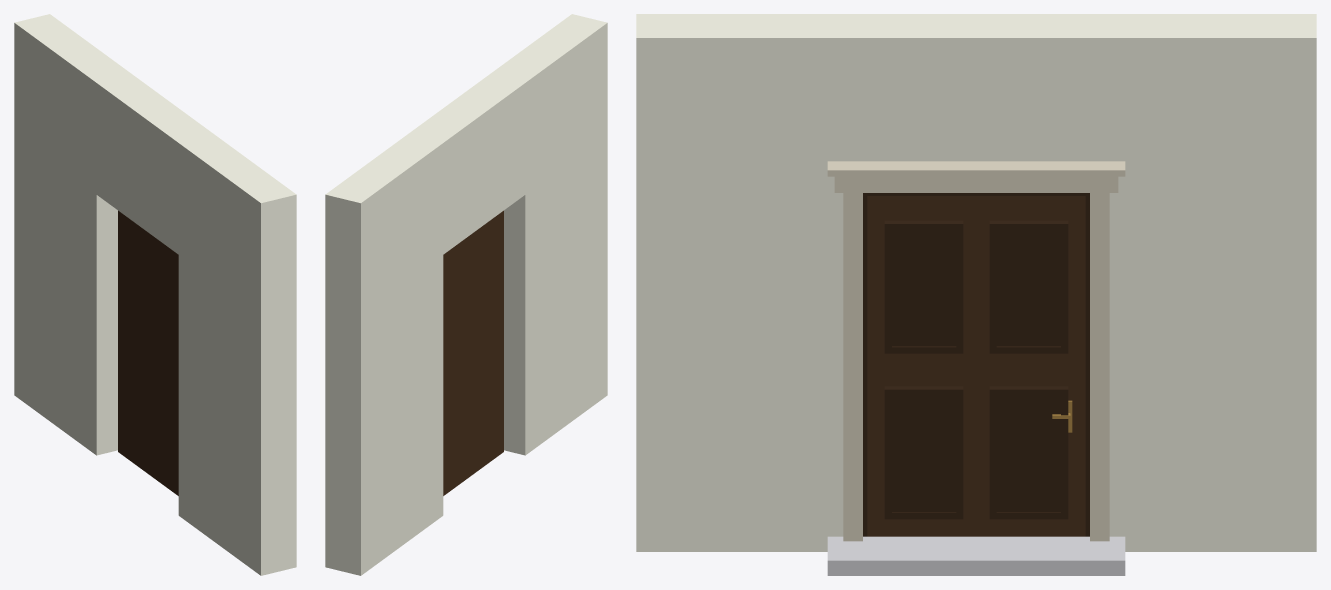
The model's file is social-cafe-halt.glb.
3 views of the same model, side by side, from view 1: azimuth 30°, elevation 25°; view 2: azimuth 150°, elevation 25°; view 3: azimuth 270°, elevation 25° (orthographic). The views are drawn at different scales.
Visible parts, largest first — view 1: mesh_cebc8f3b53ee_5, mesh_cebc8f3b53ee_8; view 2: mesh_cebc8f3b53ee_5, mesh_cebc8f3b53ee_8; view 3: mesh_cebc8f3b53ee_5, mesh_cebc8f3b53ee_7, mesh_cebc8f3b53ee_8, mesh_cebc8f3b53ee_6, mesh_cebc8f3b53ee_11.
Part boxes in pixels (bbox=[...]): mesh_cebc8f3b53ee_5: bbox=[14, 14, 296, 575]; mesh_cebc8f3b53ee_8: bbox=[118, 210, 178, 495]; mesh_cebc8f3b53ee_5: bbox=[325, 14, 607, 575]; mesh_cebc8f3b53ee_8: bbox=[443, 210, 503, 495]; mesh_cebc8f3b53ee_5: bbox=[636, 14, 1316, 551]; mesh_cebc8f3b53ee_7: bbox=[863, 193, 1089, 536]; mesh_cebc8f3b53ee_8: bbox=[867, 196, 1085, 536]; mesh_cebc8f3b53ee_6: bbox=[827, 161, 1125, 541]; mesh_cebc8f3b53ee_11: bbox=[827, 536, 1125, 575].
Size of the model in its own units: 0.8 by 4 by 4.8.
